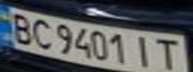0: (87, 28, 109, 62)
1: (106, 30, 130, 65)
4: (69, 26, 93, 60)
9: (51, 21, 75, 55)
B: (3, 10, 39, 45)
C: (27, 17, 57, 50)
I: (130, 33, 160, 70)
T: (151, 35, 184, 72)
